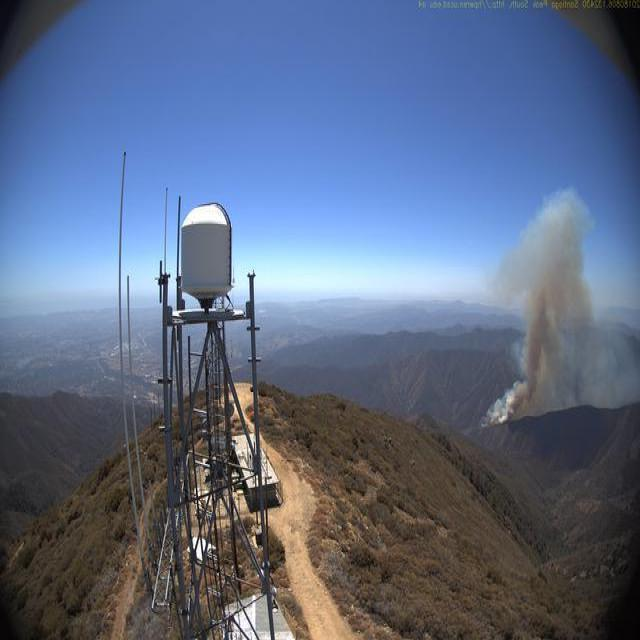Smoke: (486, 190, 637, 433)
